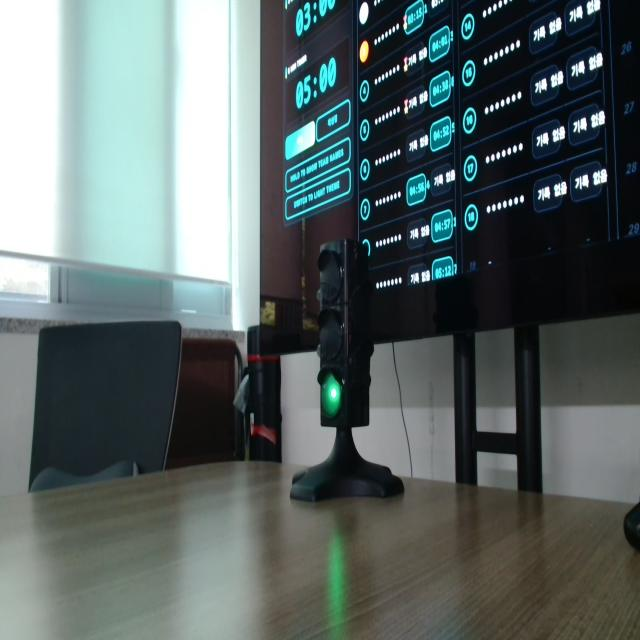green_light: (321, 372, 342, 418)
